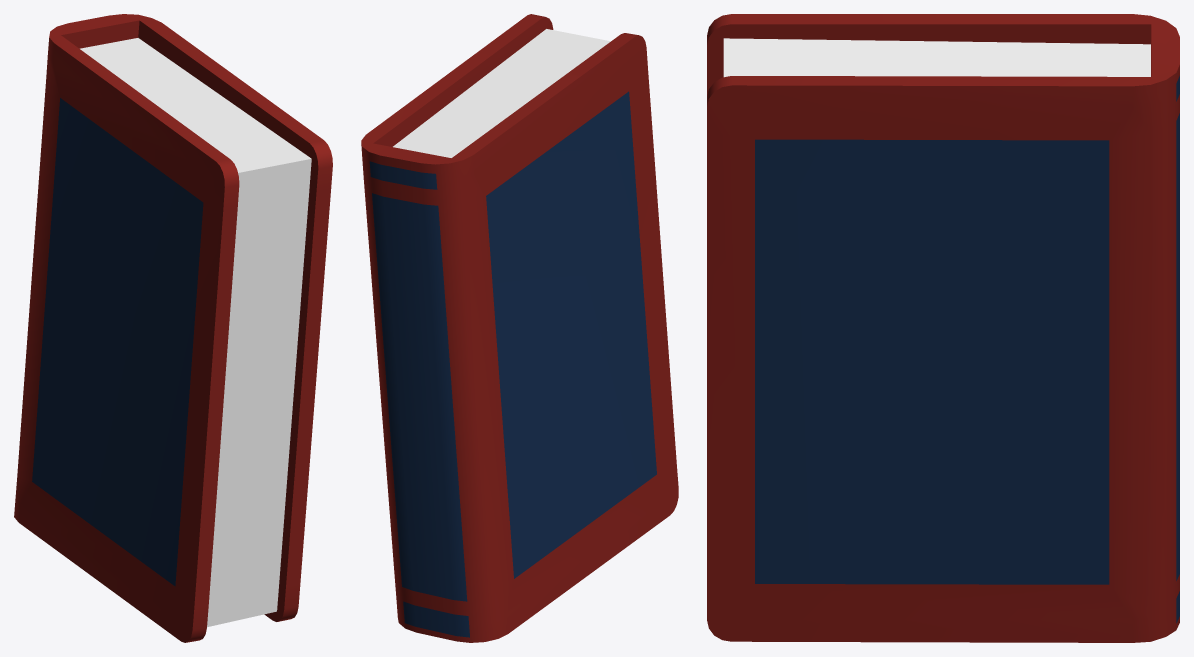
File: book_17.fbx
The picture shows the model from 3 angles, left to right: view 1: azimuth 30°, elevation 25°; view 2: azimuth 150°, elevation 25°; view 3: azimuth 270°, elevation 25°; orthographic projection. The views are drawn at different scales.
Parts seen in each view (by area): view 1: book_17; view 2: book_17; view 3: book_17.
Boxes of the visible parts, x1,y1,x2,y2 form: book_17: (14, 14, 332, 642); book_17: (361, 14, 678, 642); book_17: (707, 14, 1179, 642).
Size of the model in its own units: 0.1065 by 0.3369 by 0.2462.
